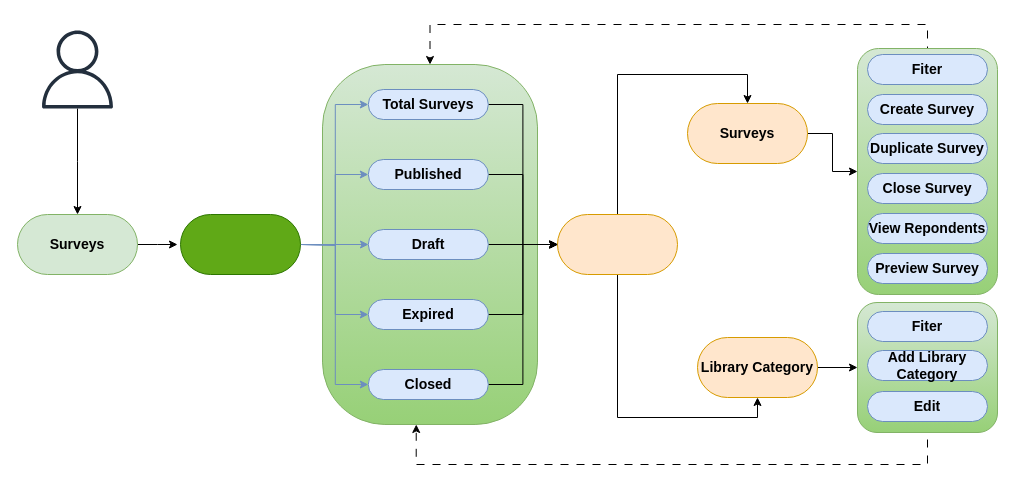
The diagram is 1015 pixels wide and 490 high, and some of its shapes have lost their labels. Each missing label, with the centre of its shape:
Dashboard: [240,244]
My Survey Library: [617,244]
Site Admin: [77,69]
